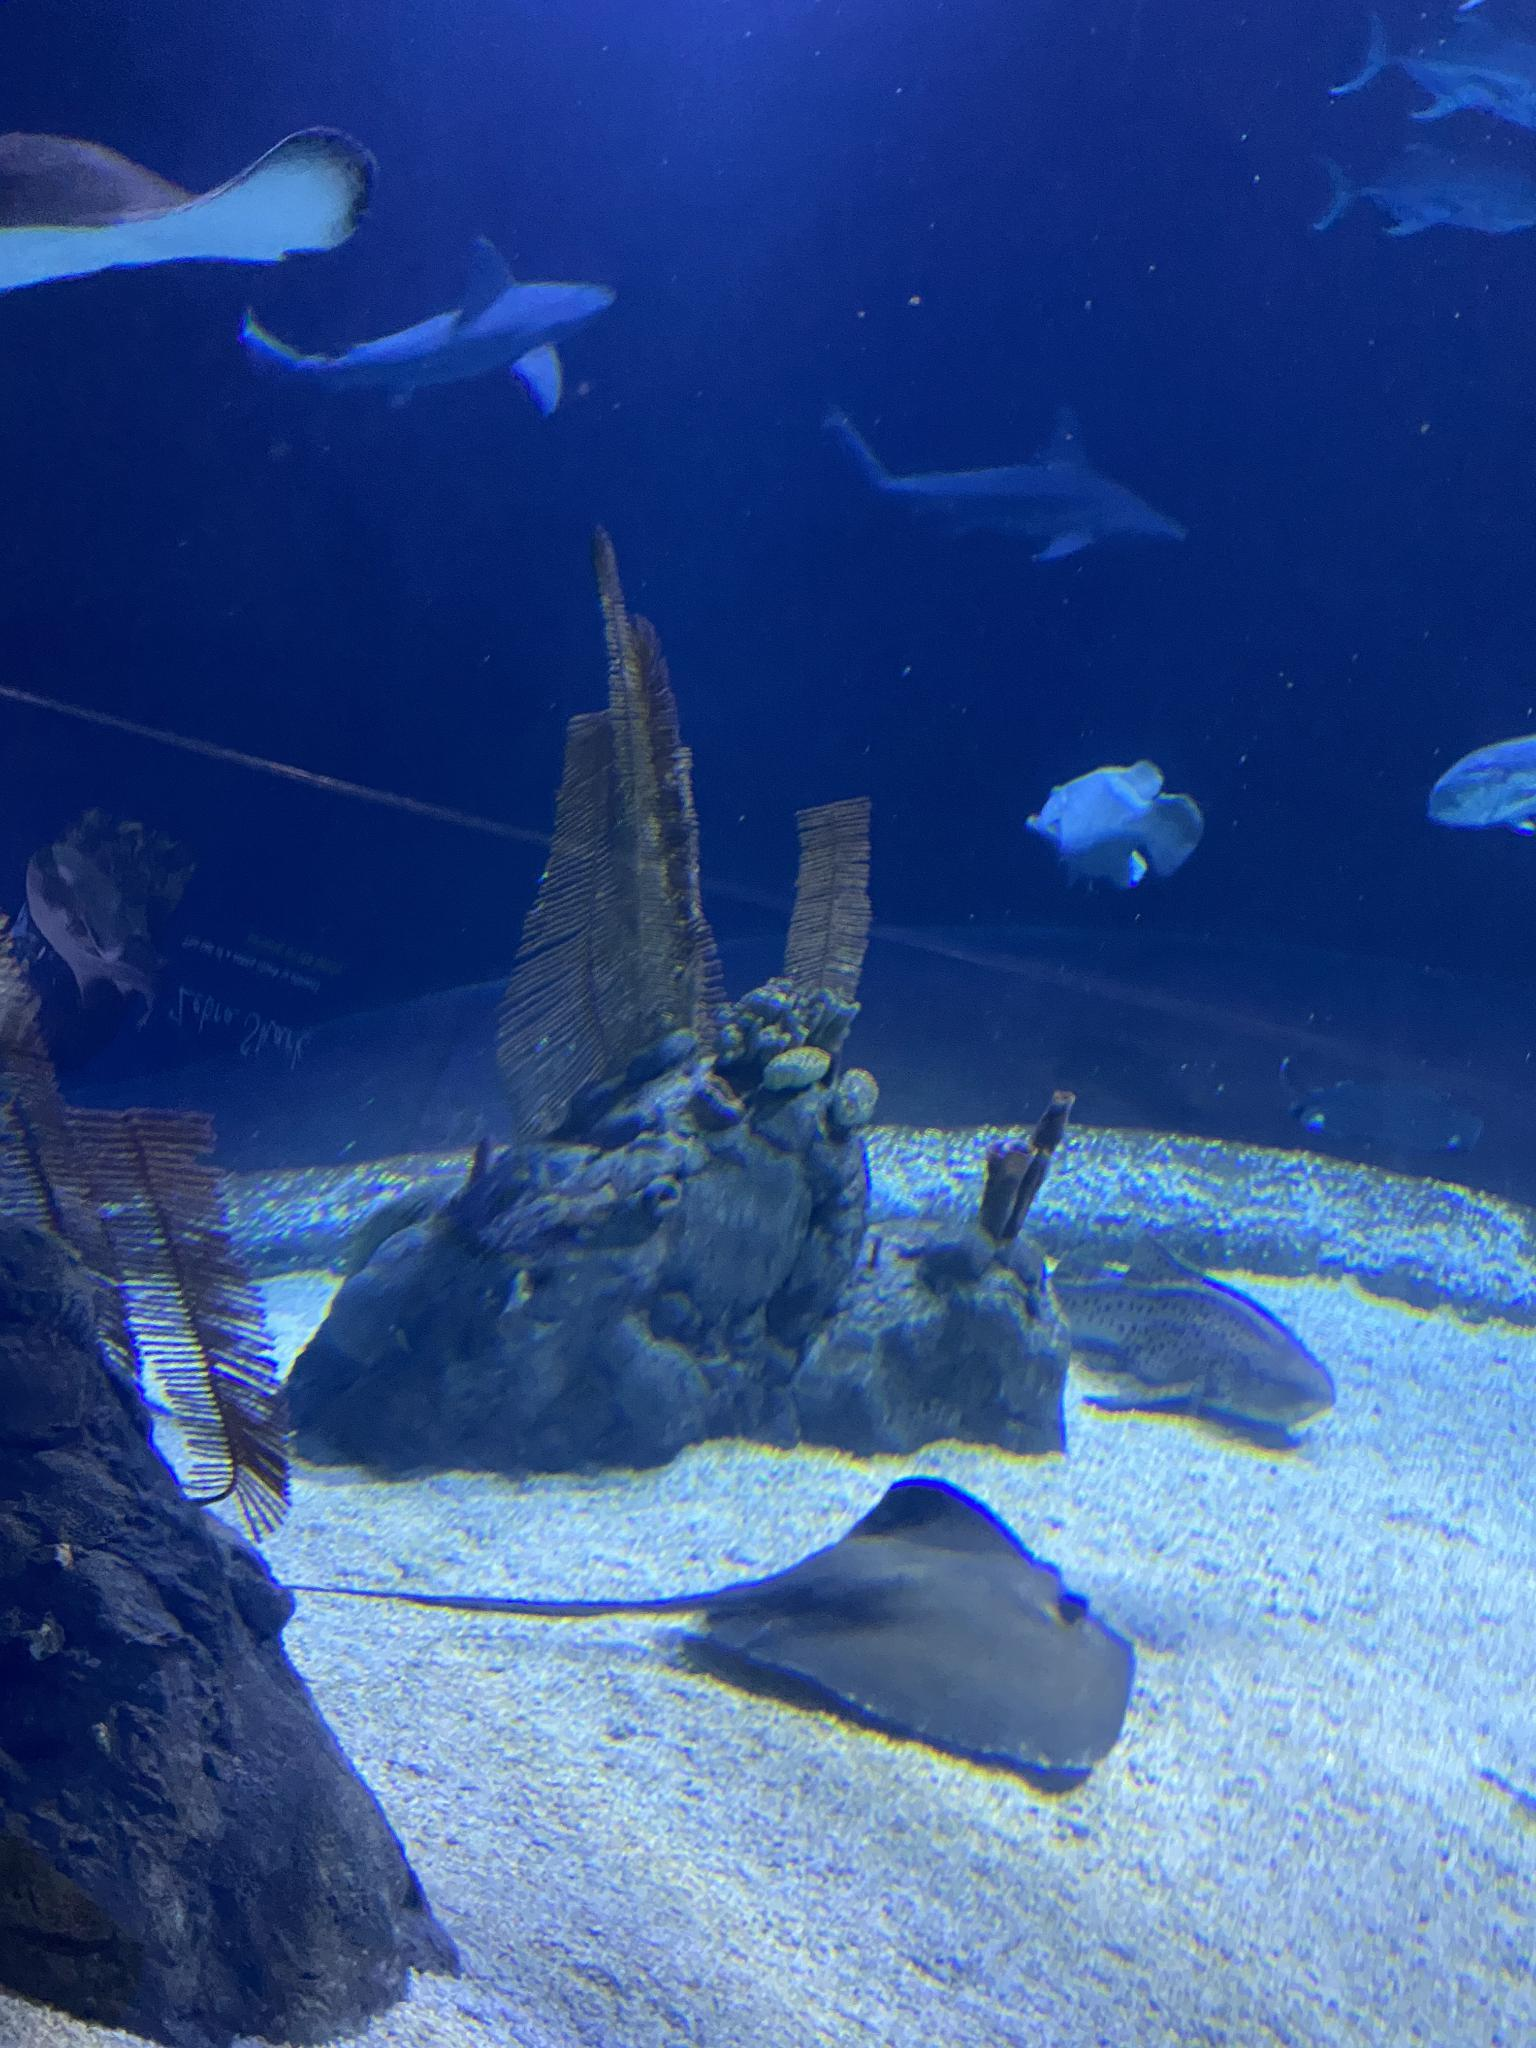fish: (1044, 1229, 1339, 1429), (1331, 3, 1534, 135), (1300, 132, 1534, 247), (1025, 758, 1205, 893), (1430, 732, 1534, 843)
shark: (236, 227, 620, 426), (805, 393, 1189, 576)
stingray: (684, 1479, 1137, 1771), (0, 127, 379, 297), (1292, 1076, 1484, 1156)
